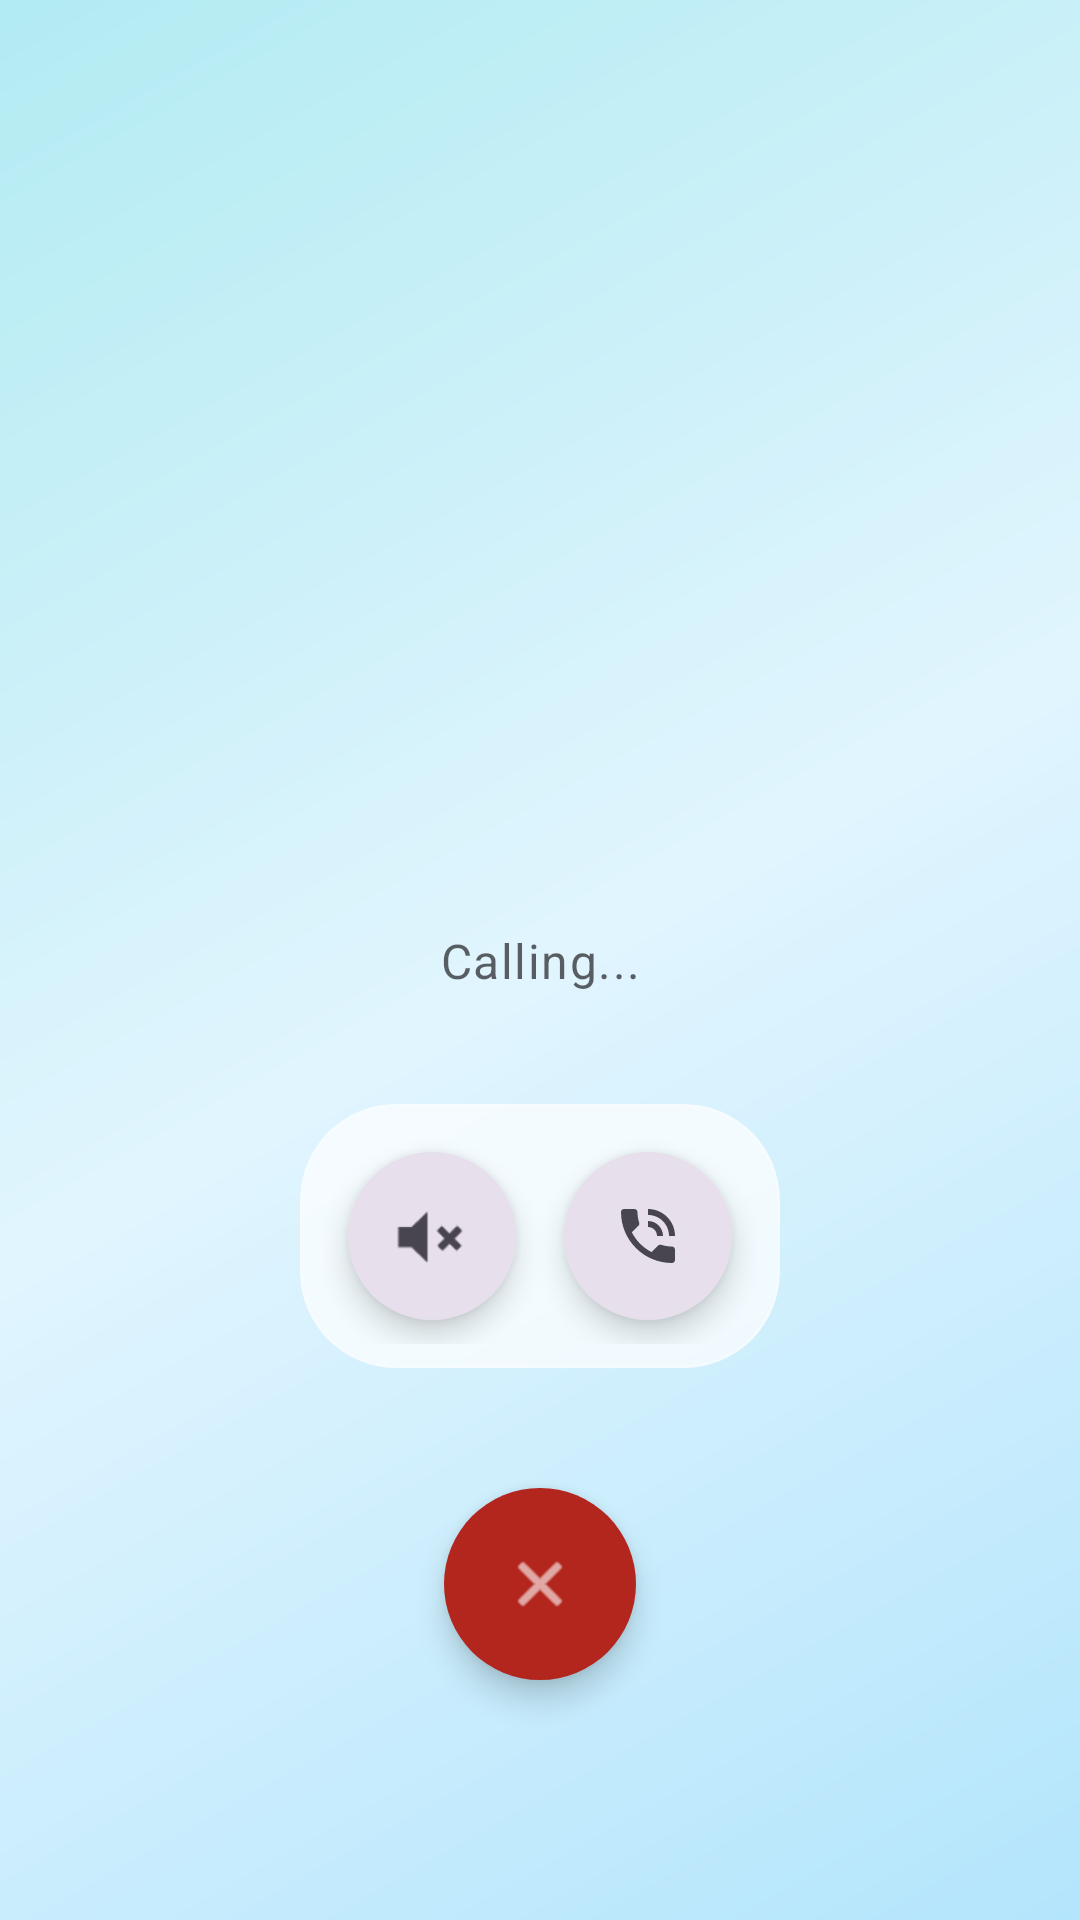

Icons on this 1080px x 1920px Android screen, each with its box as {"x1": x1, "y1": y1, "x2": x2, "y2": y2}:
Decline: {"x1": 444, "y1": 1488, "x2": 636, "y2": 1680}
Mute: {"x1": 348, "y1": 1152, "x2": 516, "y2": 1320}
